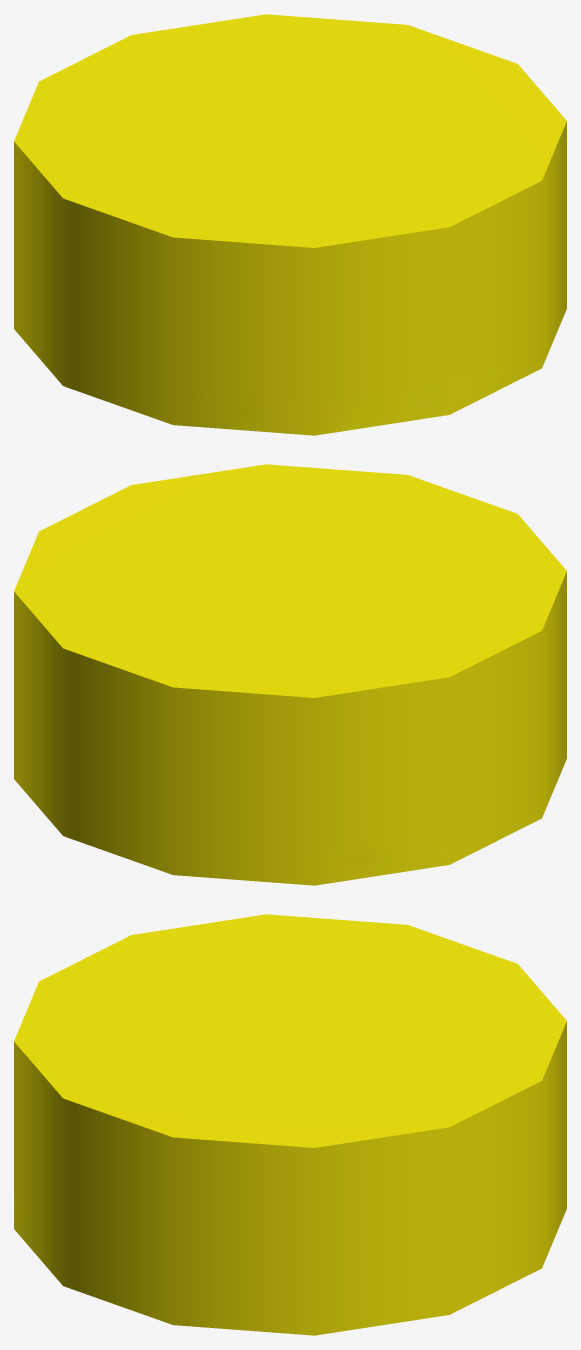
Rendered from SM_塑料离心管盖子.fbx.
The picture shows the model from 3 angles, top to bottom: view 1: azimuth 30°, elevation 25°; view 2: azimuth 150°, elevation 25°; view 3: azimuth 270°, elevation 25°; orthographic projection.
Visible parts, largest first — view 1: SM_塑料离心管盖子; view 2: SM_塑料离心管盖子; view 3: SM_塑料离心管盖子.
Boxes of the visible parts, box(x1,y1,x2,y2) form: SM_塑料离心管盖子: box(14, 14, 566, 435); SM_塑料离心管盖子: box(14, 464, 566, 885); SM_塑料离心管盖子: box(14, 914, 566, 1335).
Bounding box in the file's own units: 9.83 × 3.68 × 9.83.
